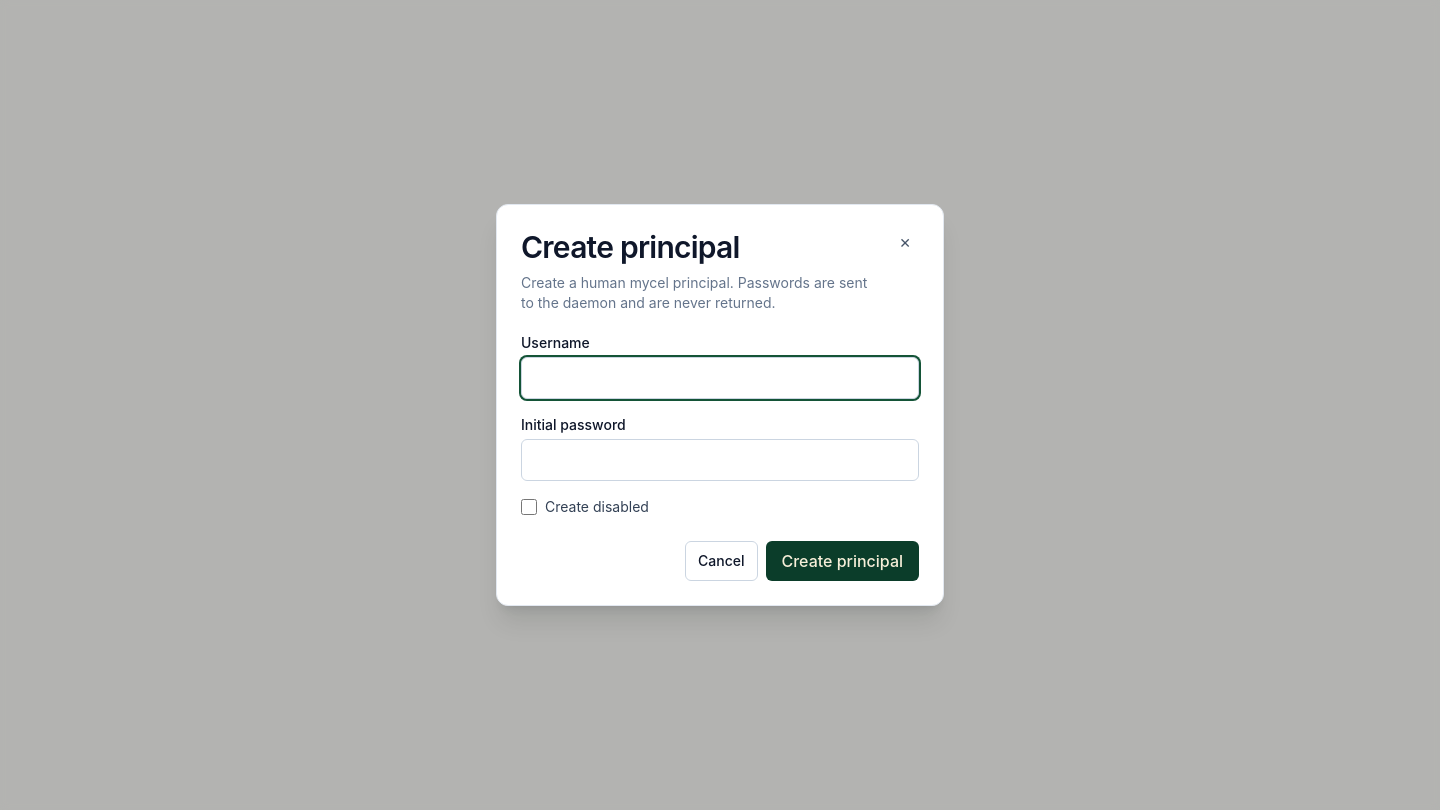
requires a password for active principals
The width and height of the screenshot is (1440, 810).
Type "new-user" into the field labelled "Username" at coordinates (720, 378), box [521,357,919,399]
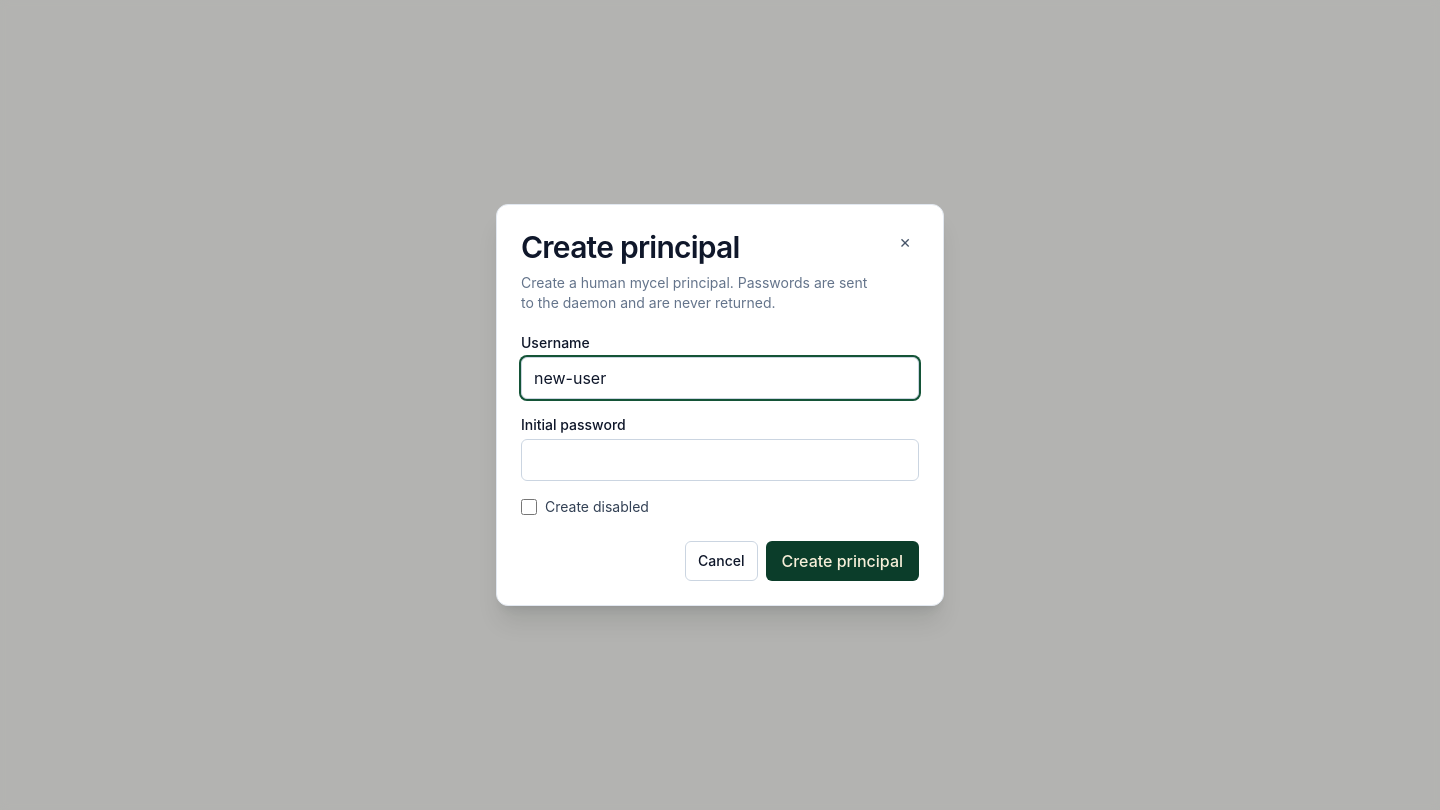
Click the button "Create principal" at coordinates (842, 561), box [766,541,919,581]
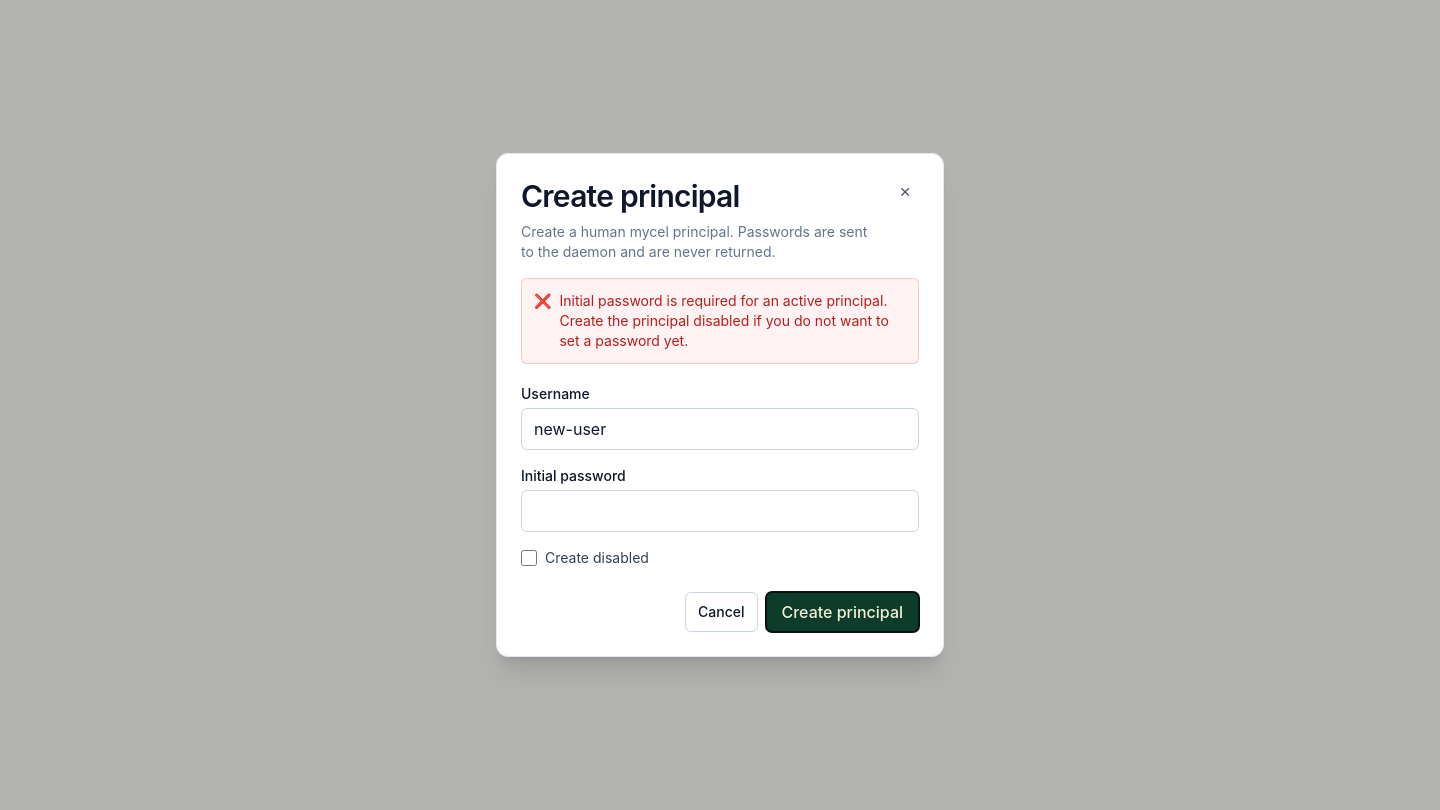
Check: the message shows "Initial password is required", box [560,292,889,349]
